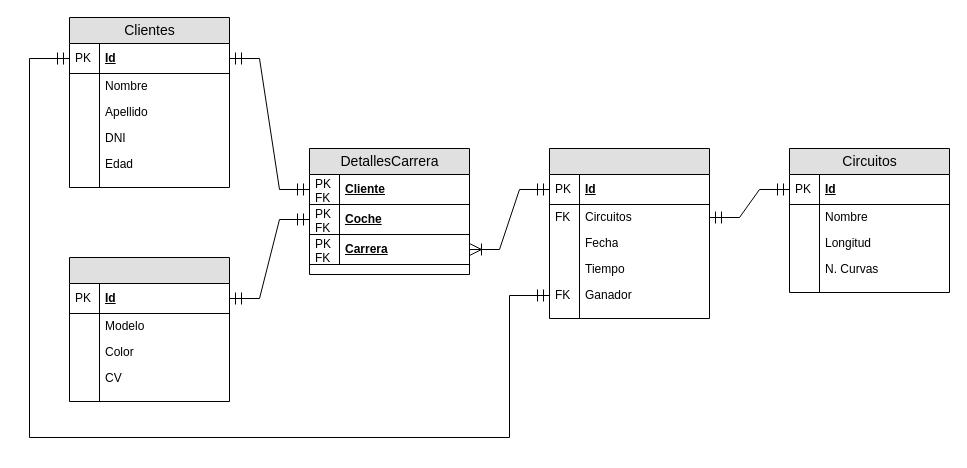
The diagram is 967 pixels wide and 468 high, and some of its shapes have lost their labels. Each missing label, with the box of its shape:
Carreras: (548, 148, 710, 318)
Coches: (68, 256, 230, 402)
